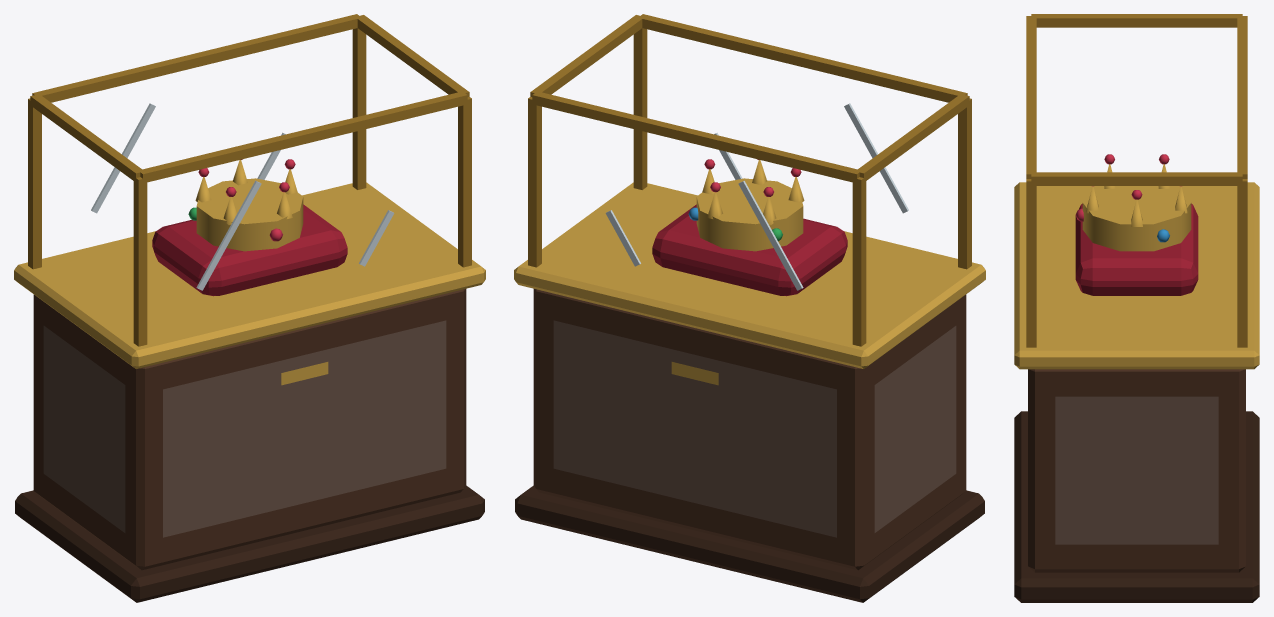
The model's file is museum-prop1.glb.
3 views of the same model, side by side, from view 1: azimuth 30°, elevation 25°; view 2: azimuth 150°, elevation 25°; view 3: azimuth 270°, elevation 25° (orthographic).
Visible parts, largest first — view 1: museum-prop1; view 2: museum-prop1; view 3: museum-prop1.
Part boxes in pixels (x1,y1,x2,y2): museum-prop1: (14, 14, 485, 602); museum-prop1: (514, 14, 985, 602); museum-prop1: (1014, 14, 1259, 602).
Size of the model in its own units: 1.2 by 1.38 by 0.72.
